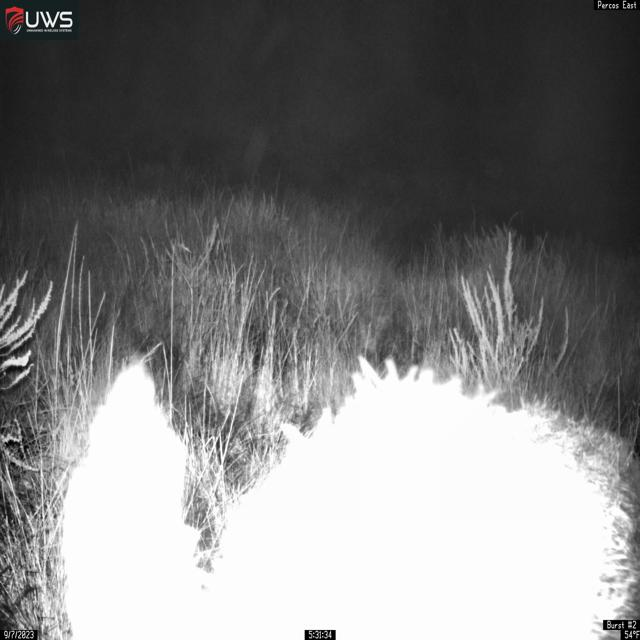pig: (40, 334, 638, 635)
